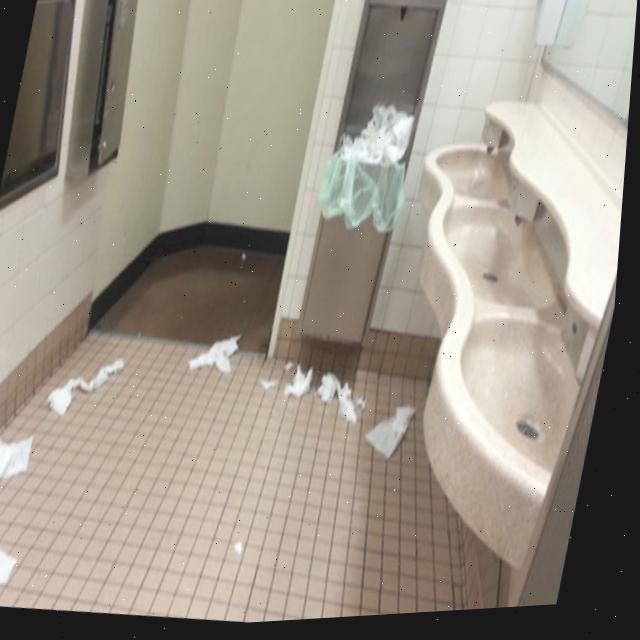garbage: (242, 333, 432, 480), (0, 410, 51, 610), (35, 340, 136, 431), (178, 322, 249, 389)
